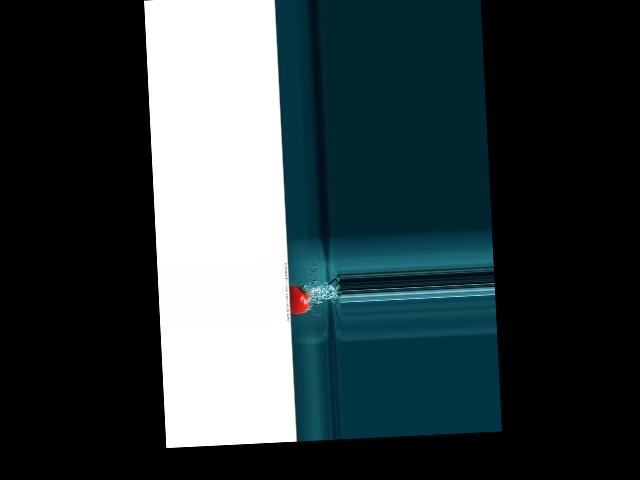tomato: (288, 283, 309, 313)
